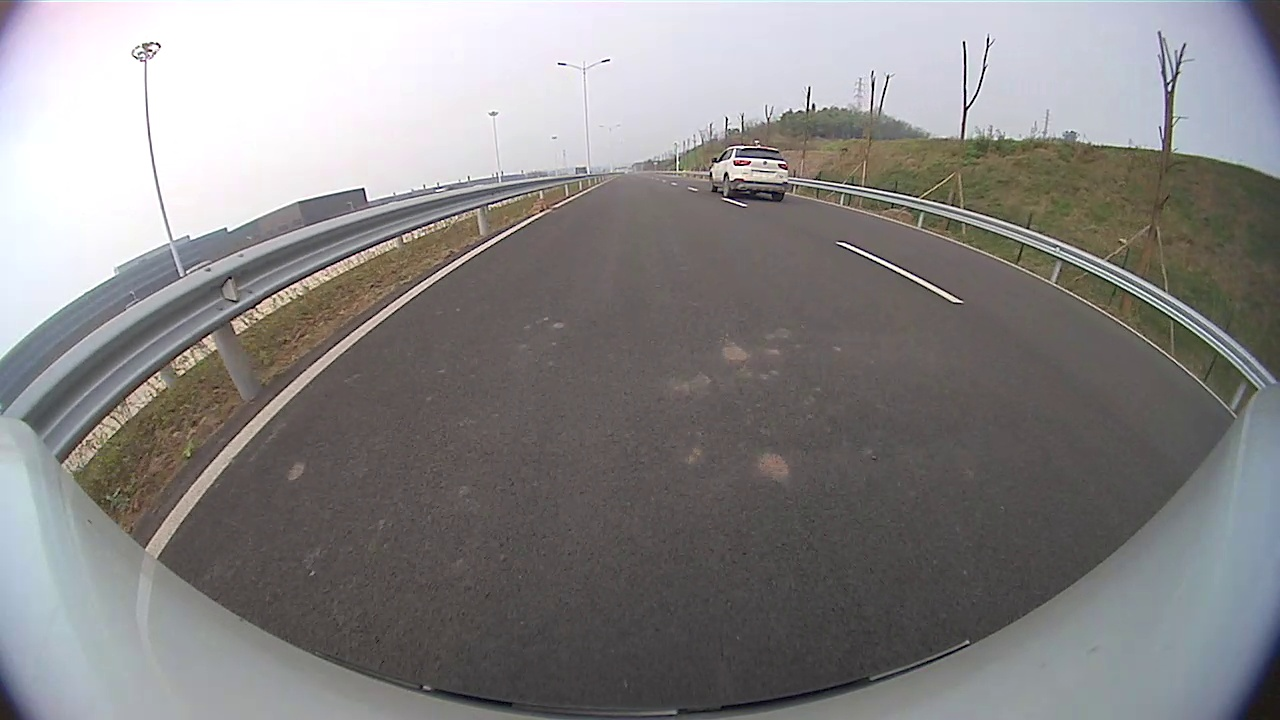car: (708, 145, 790, 202)
rear: (723, 175, 733, 200)
